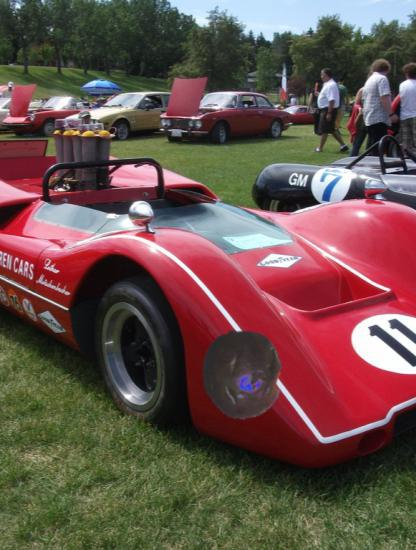Passion: (197, 329, 290, 422)
